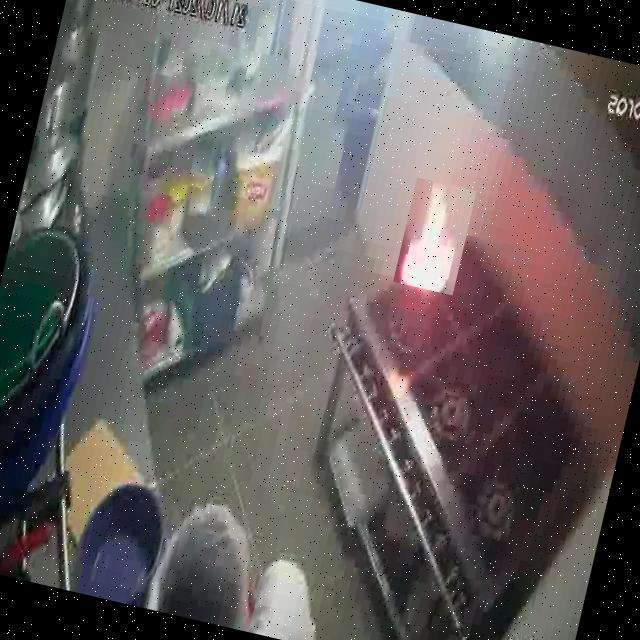fire: (392, 177, 477, 295)
